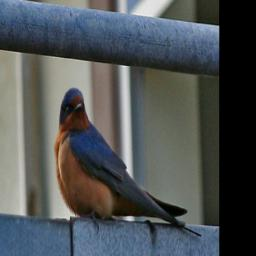Swallow: (54, 87, 202, 238)
